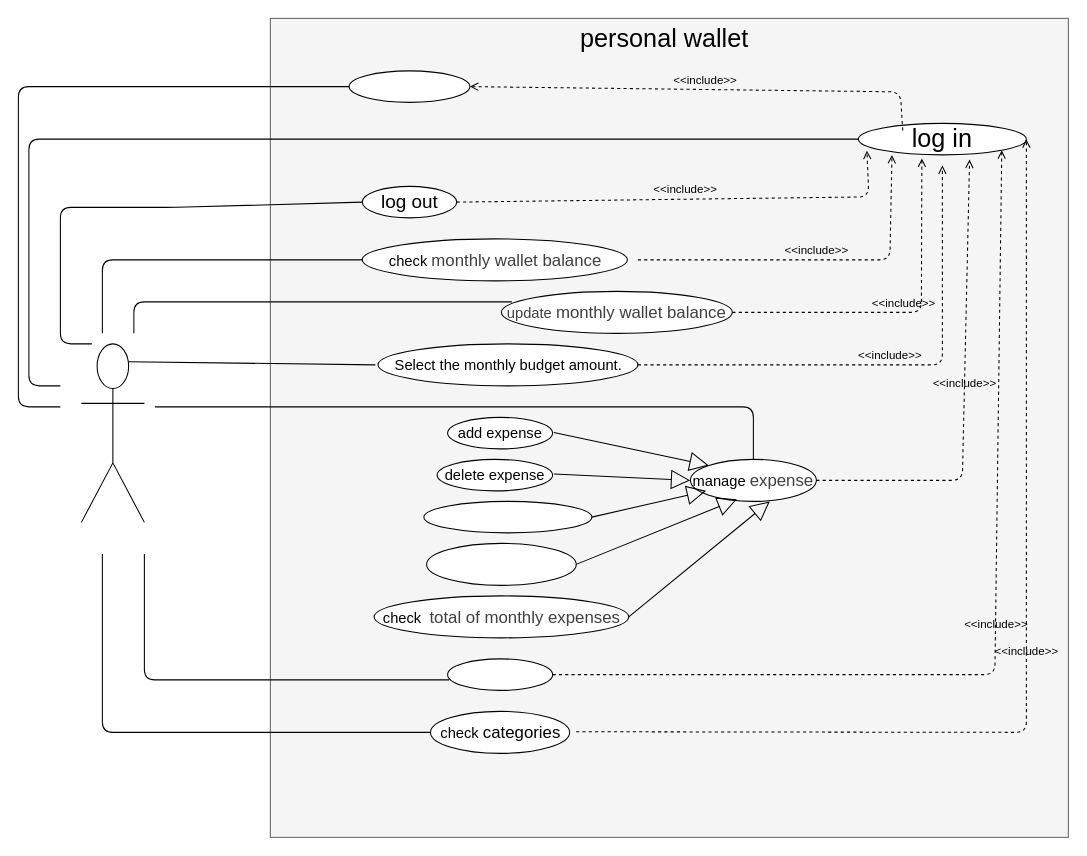
Image size: 1087x856. Some labels were removed from this diagram. The centre of each missing label's shape, as x and y in pixels:
"add category" belongs at (500,674).
"check expense list" belongs at (501,563).
"check Total expenses" belongs at (507,516).
"register" belongs at (409,86).
"USER" belongs at (112,432).
